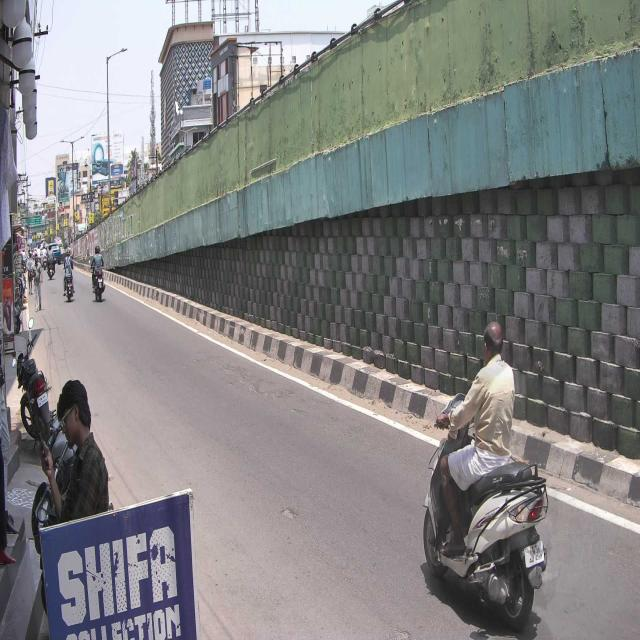single_rider: (422, 320, 548, 628)
